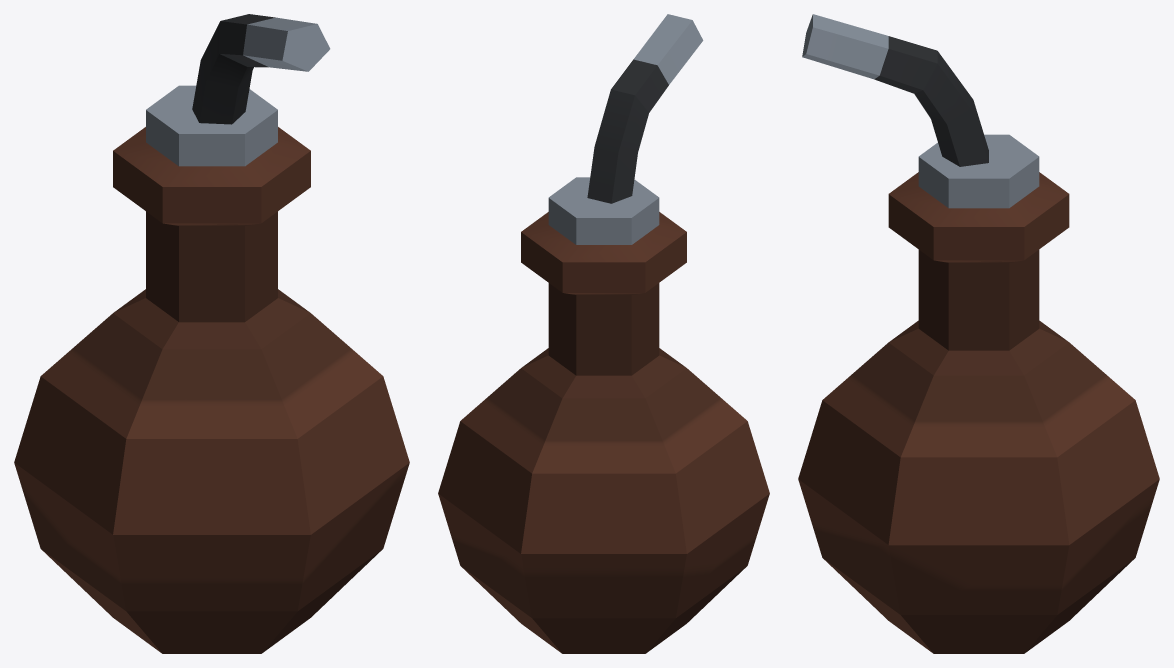
File: SM_Prop_Bottle_06.fbx
3 views of the same model, side by side, from view 1: azimuth 30°, elevation 25°; view 2: azimuth 150°, elevation 25°; view 3: azimuth 270°, elevation 25° (orthographic). The views are drawn at different scales.
Parts seen in each view (by area): view 1: SM_Prop_Bottle_06; view 2: SM_Prop_Bottle_06; view 3: SM_Prop_Bottle_06.
Boxes of the visible parts, bbox=[...] form: SM_Prop_Bottle_06: bbox=[14, 14, 409, 653]; SM_Prop_Bottle_06: bbox=[438, 14, 769, 653]; SM_Prop_Bottle_06: bbox=[798, 14, 1159, 653].
Size of the model in its own units: 16.82 by 35.56 by 19.42.
